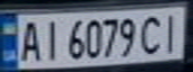0: (81, 16, 103, 60)
6: (63, 16, 87, 61)
7: (100, 15, 121, 58)
9: (118, 14, 139, 57)
A: (15, 17, 45, 63)
C: (136, 12, 166, 55)
I: (157, 10, 184, 53), (39, 16, 63, 61)
